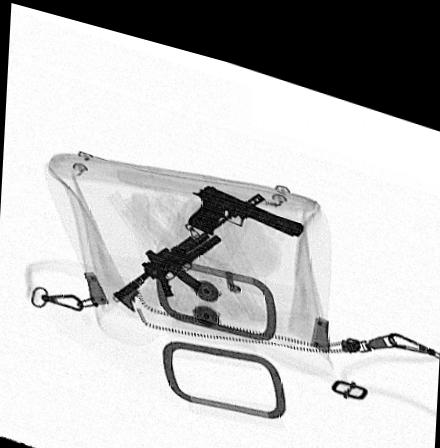Gun: (112, 177, 267, 306), (188, 173, 305, 225)
